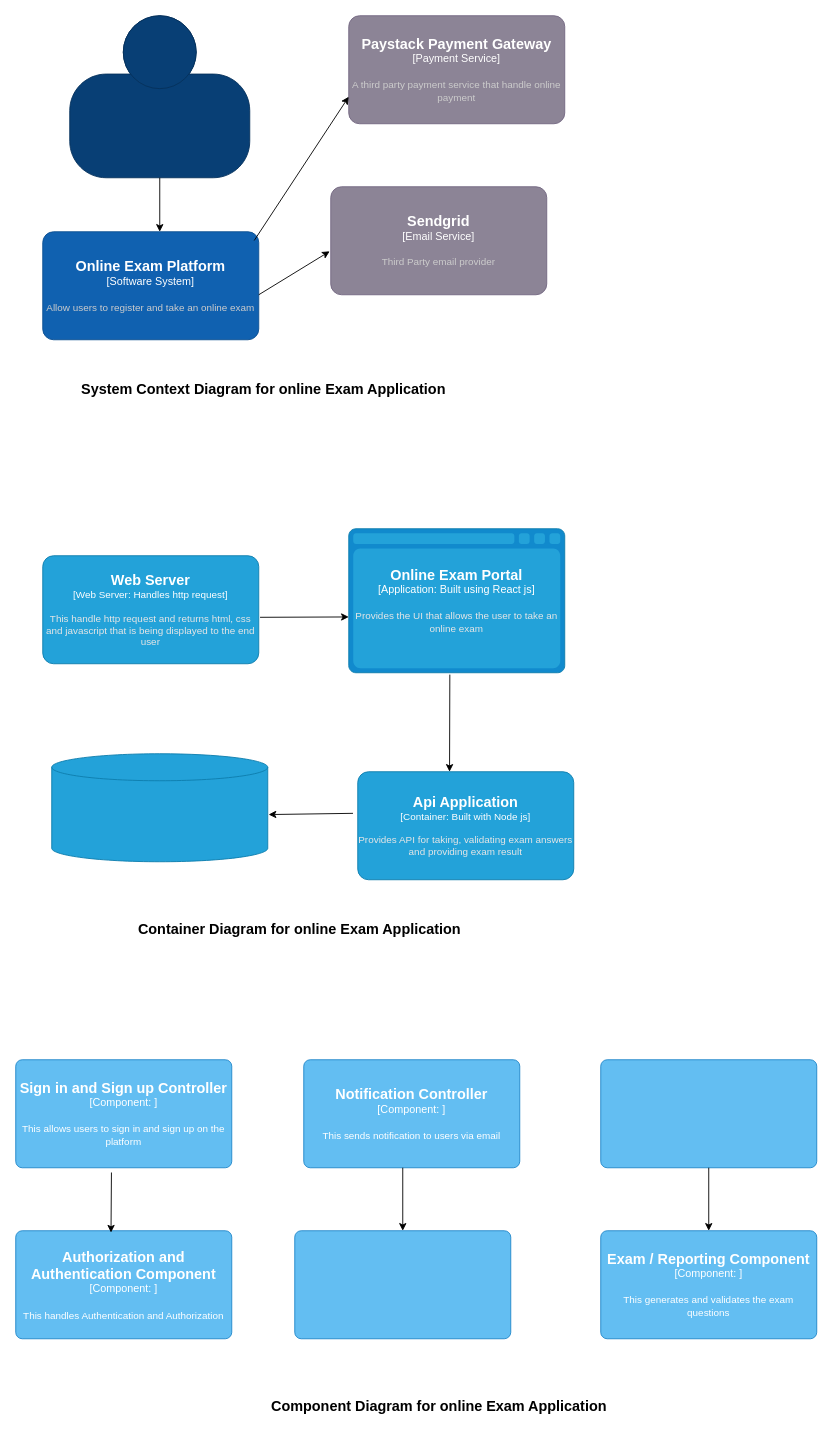
This 833x1436 diagram has some shape labels left out. Here are the shapes that lost their labels. From the top down, the box of each, then its label:
(69, 15, 250, 178): Customer [Person] A user that wants to take an online exam
(51, 753, 268, 862): Database [Database: Mongo DB] For storing exam and user details
(600, 1059, 817, 1168): Exam Controller [Component: ] This displays the exam and exam result
(294, 1230, 511, 1339): Email Component [Component: ] Sends emails to users
